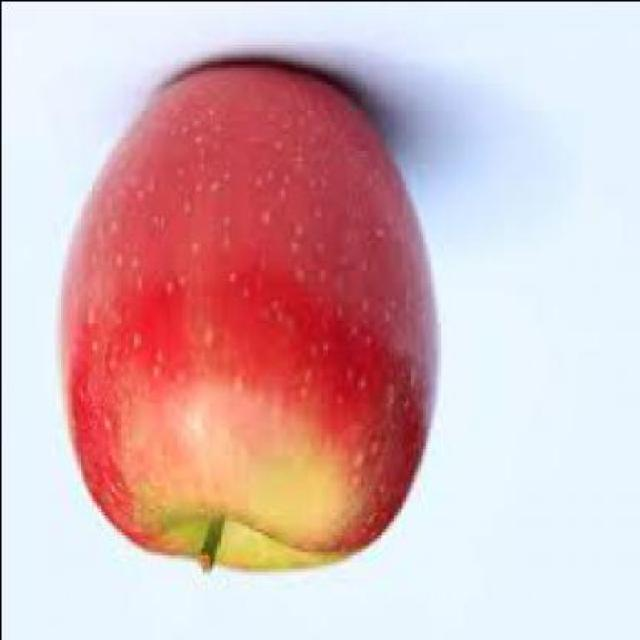BIODEGRADABLE: (59, 60, 439, 574)
